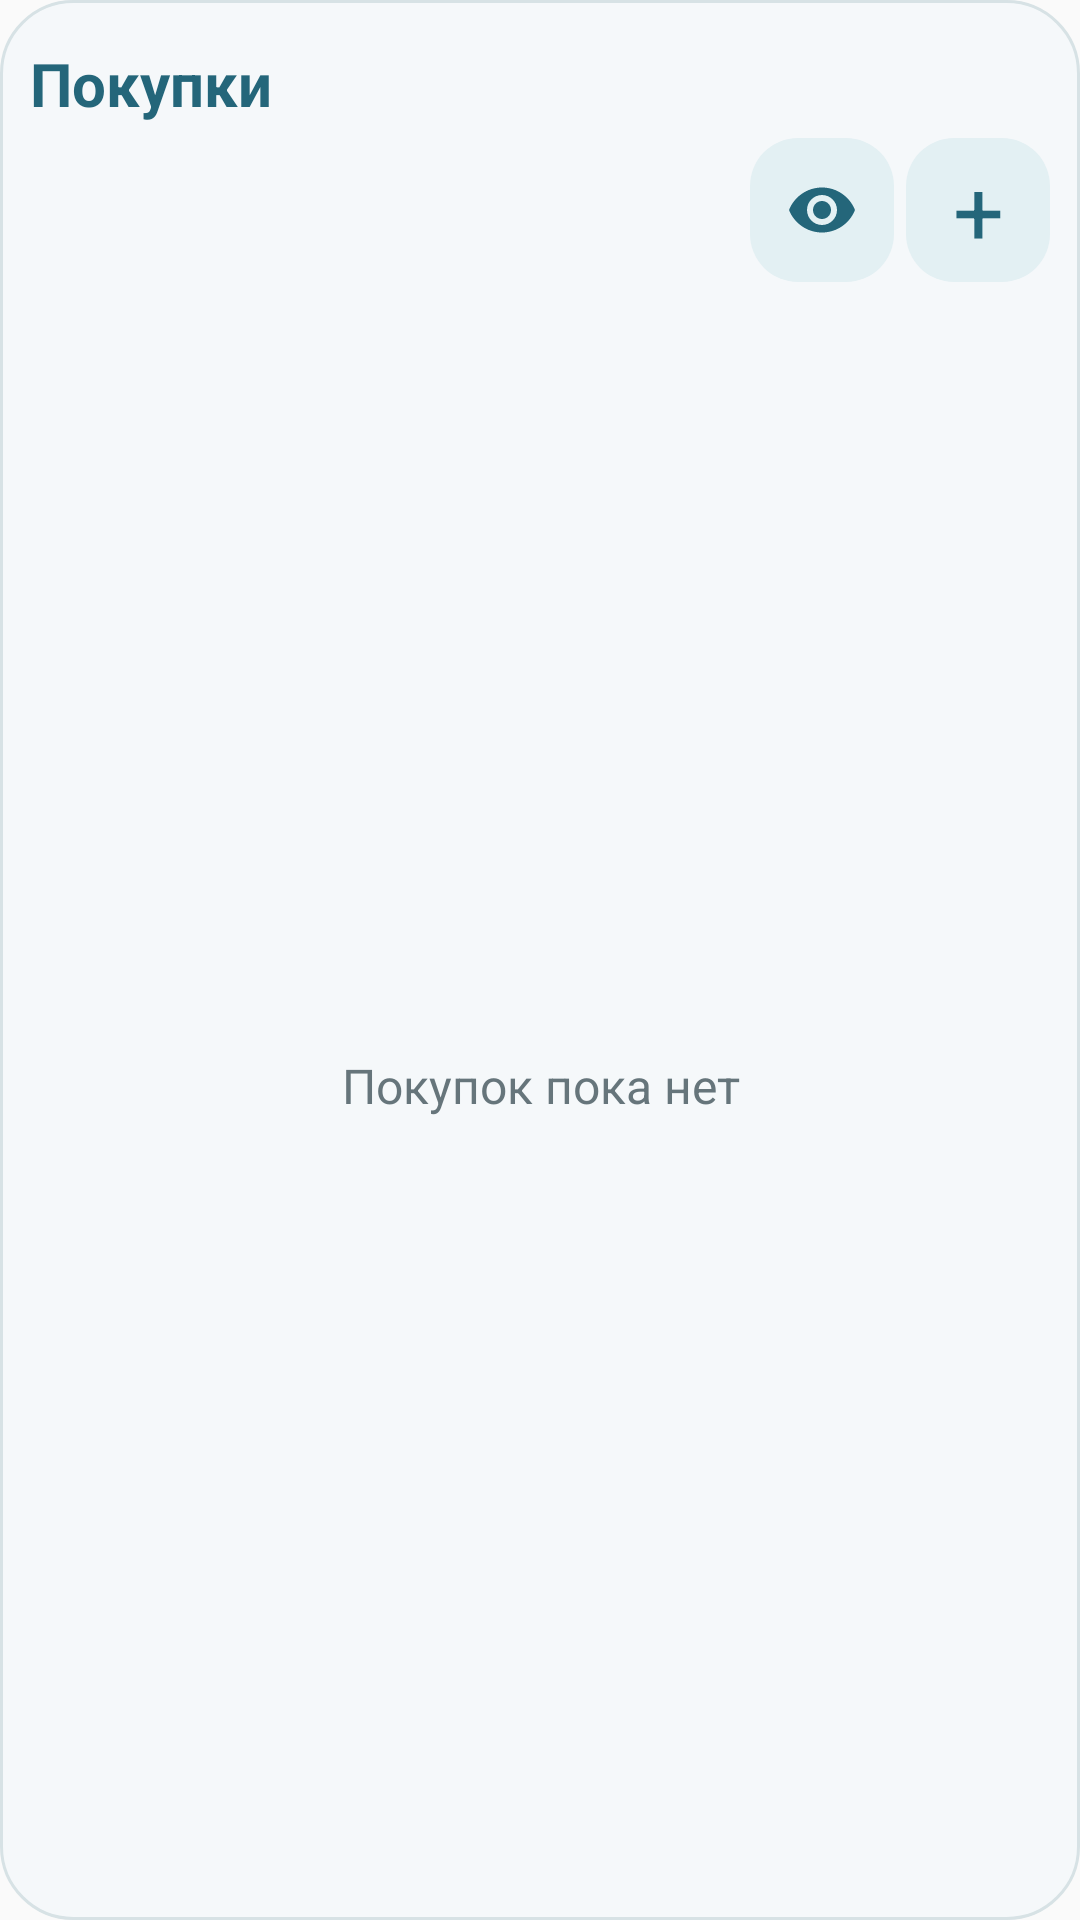

Screen size 1080*1920. Icon name, then its box in pixels as [left=x1, top=y1, right=x2, bottom=y2]:
Скрыть купленные товары: [left=789, top=187, right=855, bottom=233]
